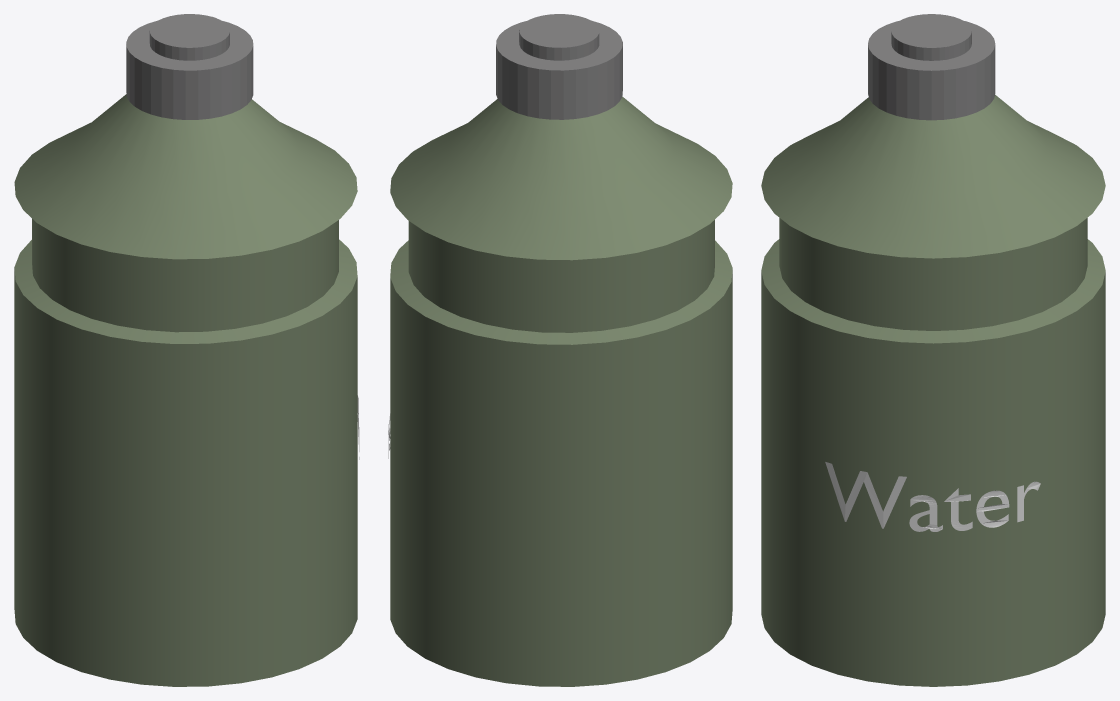
File: water.fbx
3 views of the same model, side by side, from view 1: azimuth 30°, elevation 25°; view 2: azimuth 150°, elevation 25°; view 3: azimuth 270°, elevation 25° (orthographic).
Parts seen in each view (by area): view 1: Cylinder, Cylinder.001; view 2: Cylinder, Cylinder.001; view 3: Cylinder, Cylinder.001, Text.
Boxes of the visible parts, box(x1,y1,x2,y2) form: Cylinder: box(14, 94, 357, 686); Cylinder.001: box(126, 14, 253, 119); Cylinder: box(390, 96, 732, 686); Cylinder.001: box(496, 14, 622, 119); Cylinder: box(761, 95, 1105, 686); Cylinder.001: box(868, 14, 995, 120); Text: box(825, 462, 1040, 531).
Bounding box in the file's own units: 52.72 × 98.28 × 52.49.
